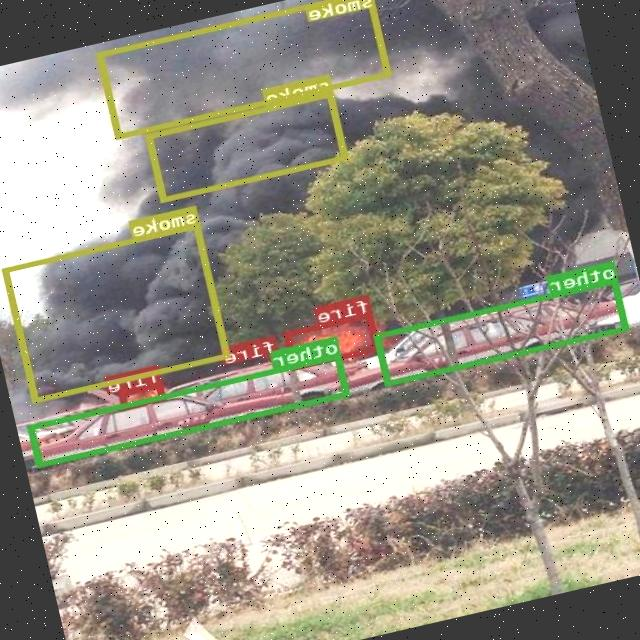fire: (285, 310, 382, 369), (120, 381, 168, 408), (271, 352, 280, 361)
smoke: (3, 221, 232, 401), (96, 0, 393, 138), (147, 90, 350, 200)
